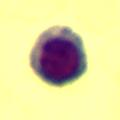lymphocyte: (27, 23, 90, 86)
